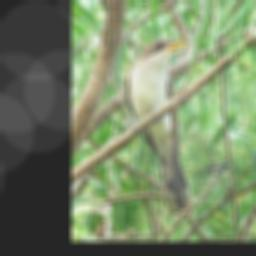Cuckoo: (125, 36, 194, 214)
